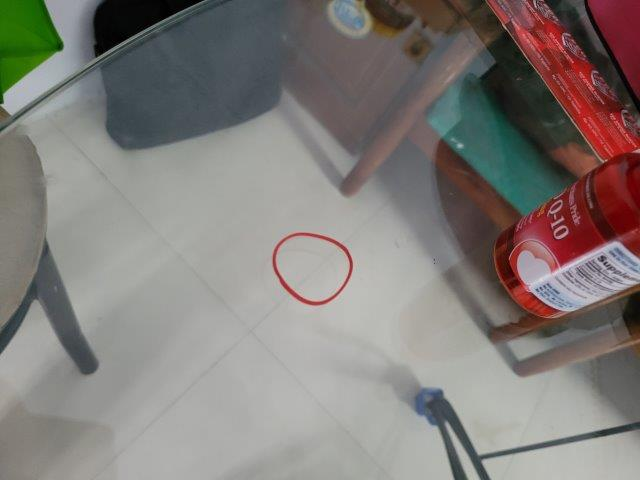karet: (271, 232, 354, 306)
